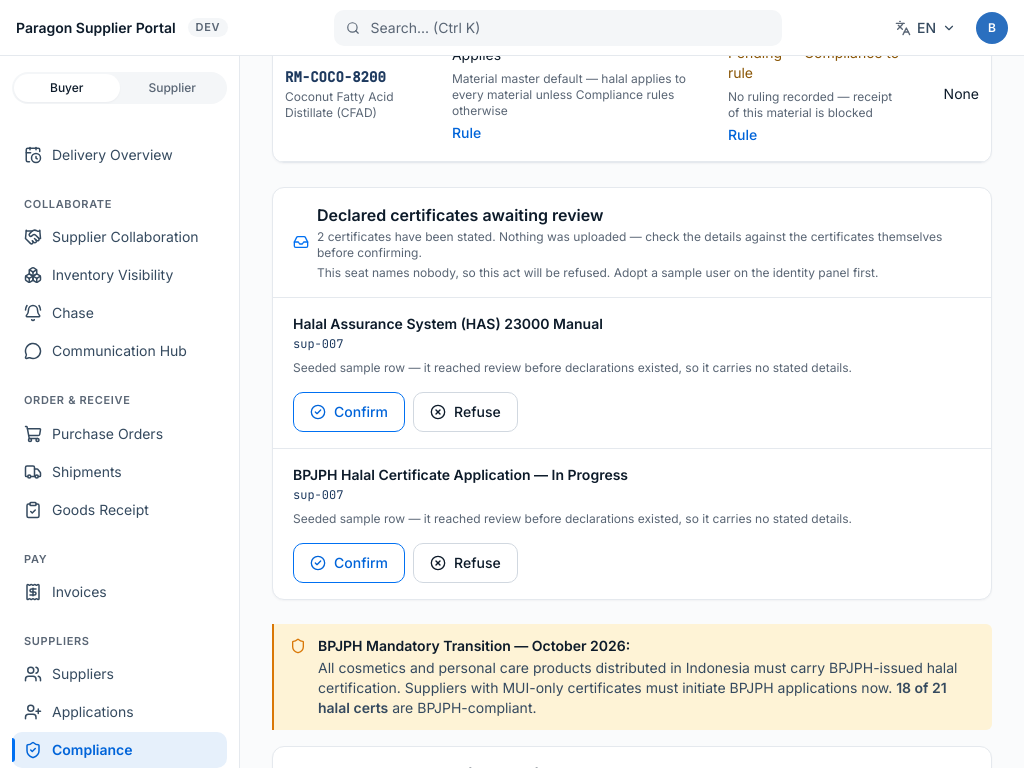
SUP-1 · the certificate queue › [en] and is refused in that language, the document unmoved
The width and height of the screenshot is (1024, 768).
(page scrolled)
Click the 1st button "Confirm" at [349, 412], box [293,392,405,432]
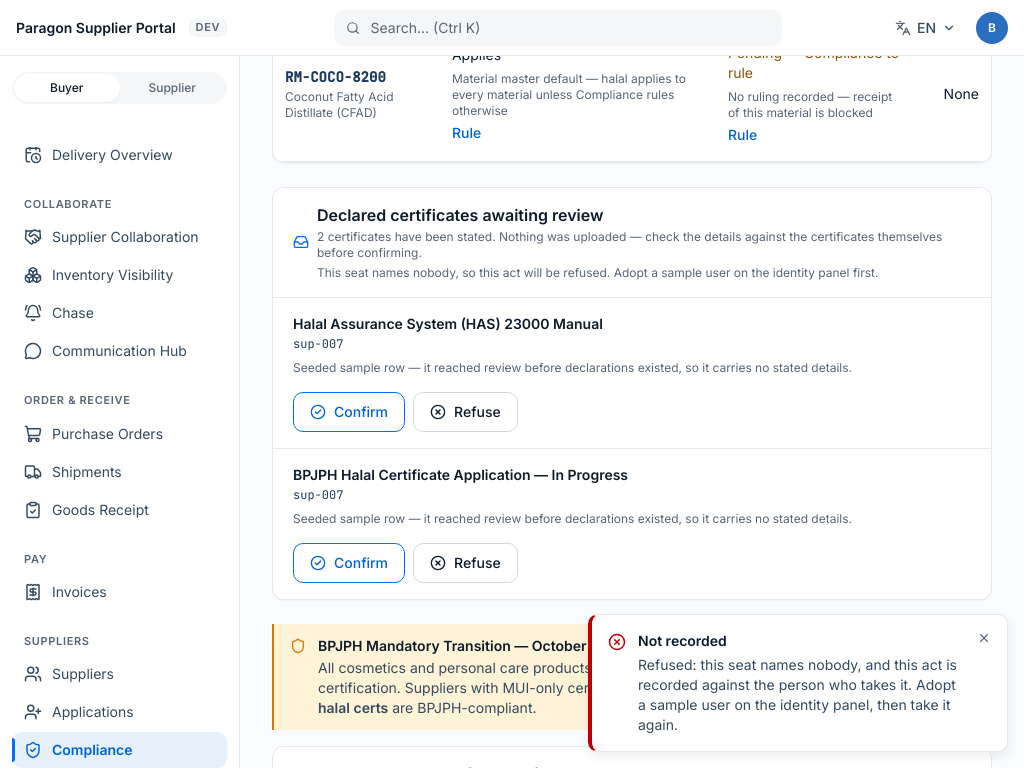
Now the text "Refused: this seat names nobody, and this act is recorded against the person who takes it. Adopt a sample user on the id" is shown, box [638,656,957,733]
